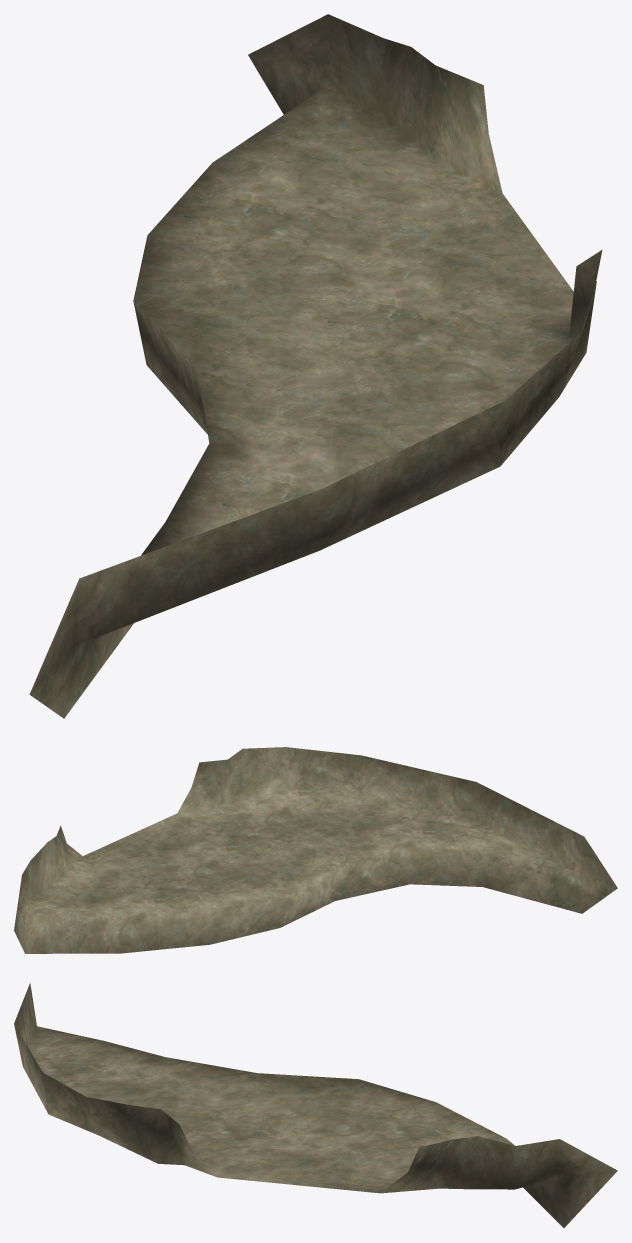
File: OVERHILL_A_01_LINE186.fbx
The picture shows the model from 3 angles, top to bottom: view 1: azimuth 30°, elevation 25°; view 2: azimuth 150°, elevation 25°; view 3: azimuth 270°, elevation 25°; orthographic projection. The views are drawn at different scales.
Visible parts, largest first — view 1: OVERHILL_A_01_LINE186; view 2: OVERHILL_A_01_LINE186; view 3: OVERHILL_A_01_LINE186.
Part boxes in pixels (left/top/right/bottom): OVERHILL_A_01_LINE186: left=29, top=14, right=602, bottom=718; OVERHILL_A_01_LINE186: left=14, top=747, right=617, bottom=953; OVERHILL_A_01_LINE186: left=14, top=983, right=617, bottom=1227.
Size of the model in its own units: 62933 by 18107 by 69424.
Materials: 1 (1 with a texture image).
